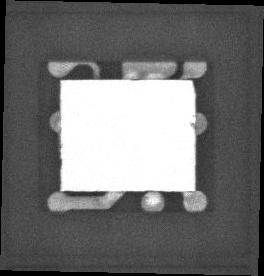DIE_BROKEN: (192, 78, 198, 92), (189, 121, 196, 129)
